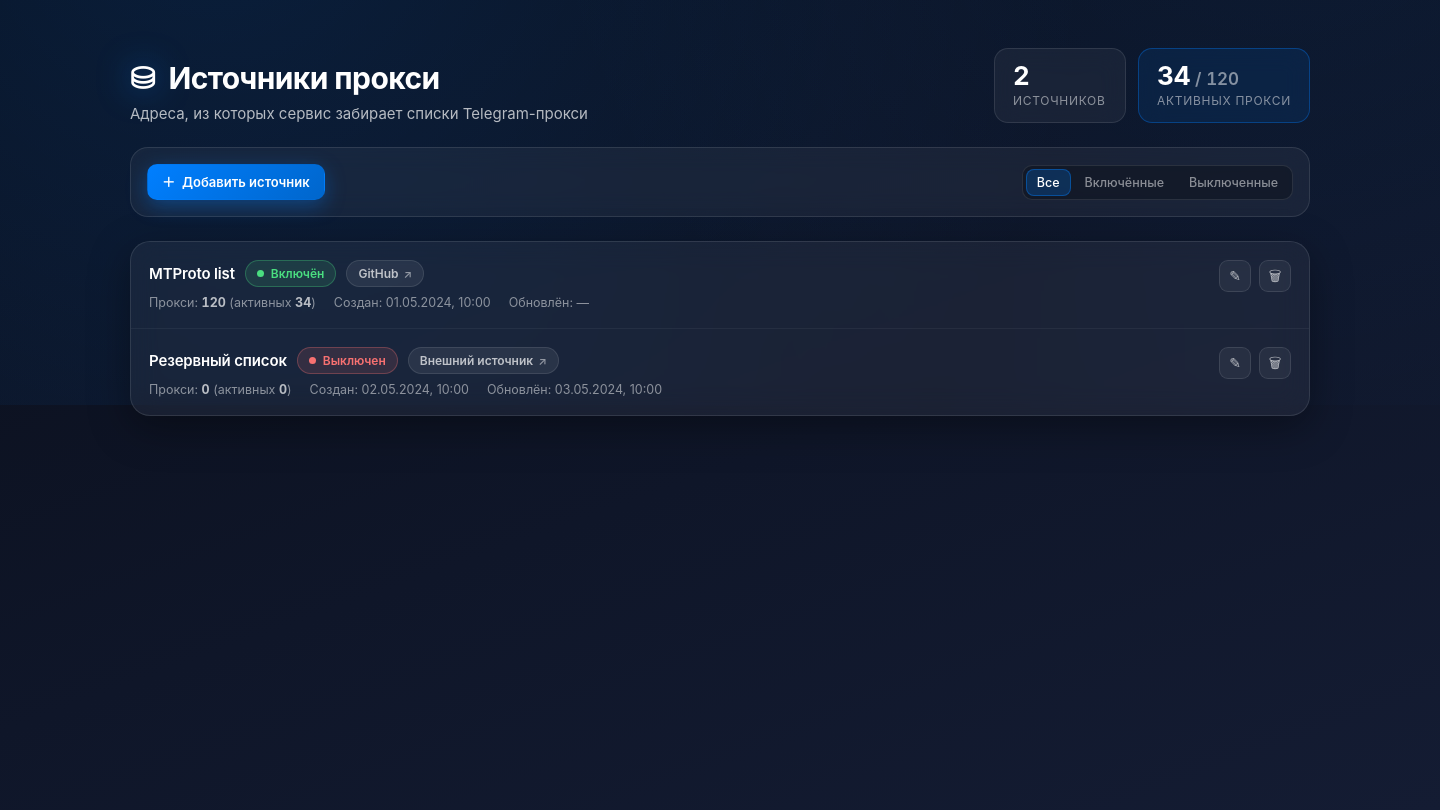
it: добавление источника › шлёт POST и перезагружает список
Expected: the text "MTProto list" is shown, top-left (149, 264), bottom-right (235, 283)
Click the button titled "Добавить источник" at (236, 182), box top-left (147, 164), bottom-right (325, 200)
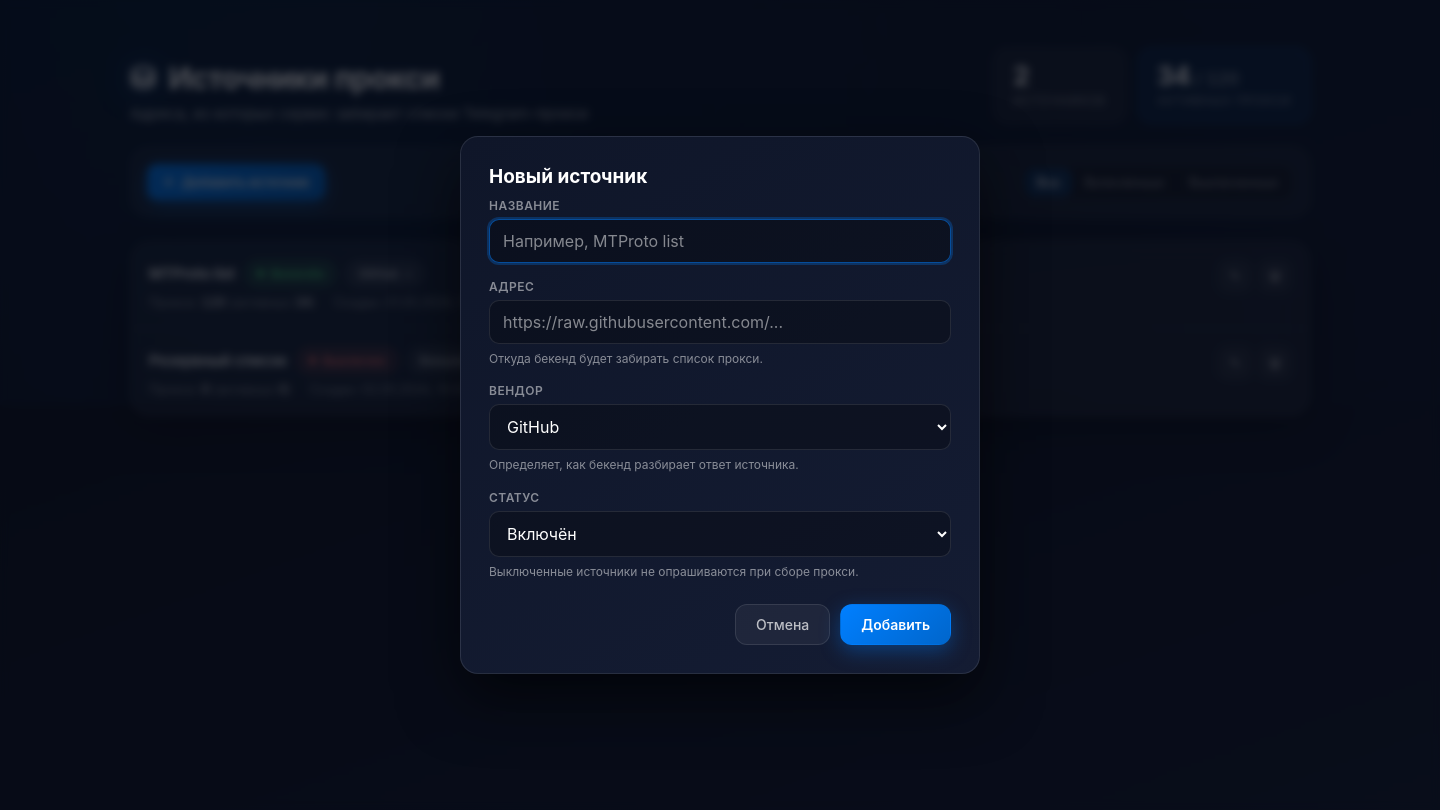
Type "Новый источник" into the field labelled "Название" at (720, 241), box top-left (489, 219), bottom-right (951, 263)
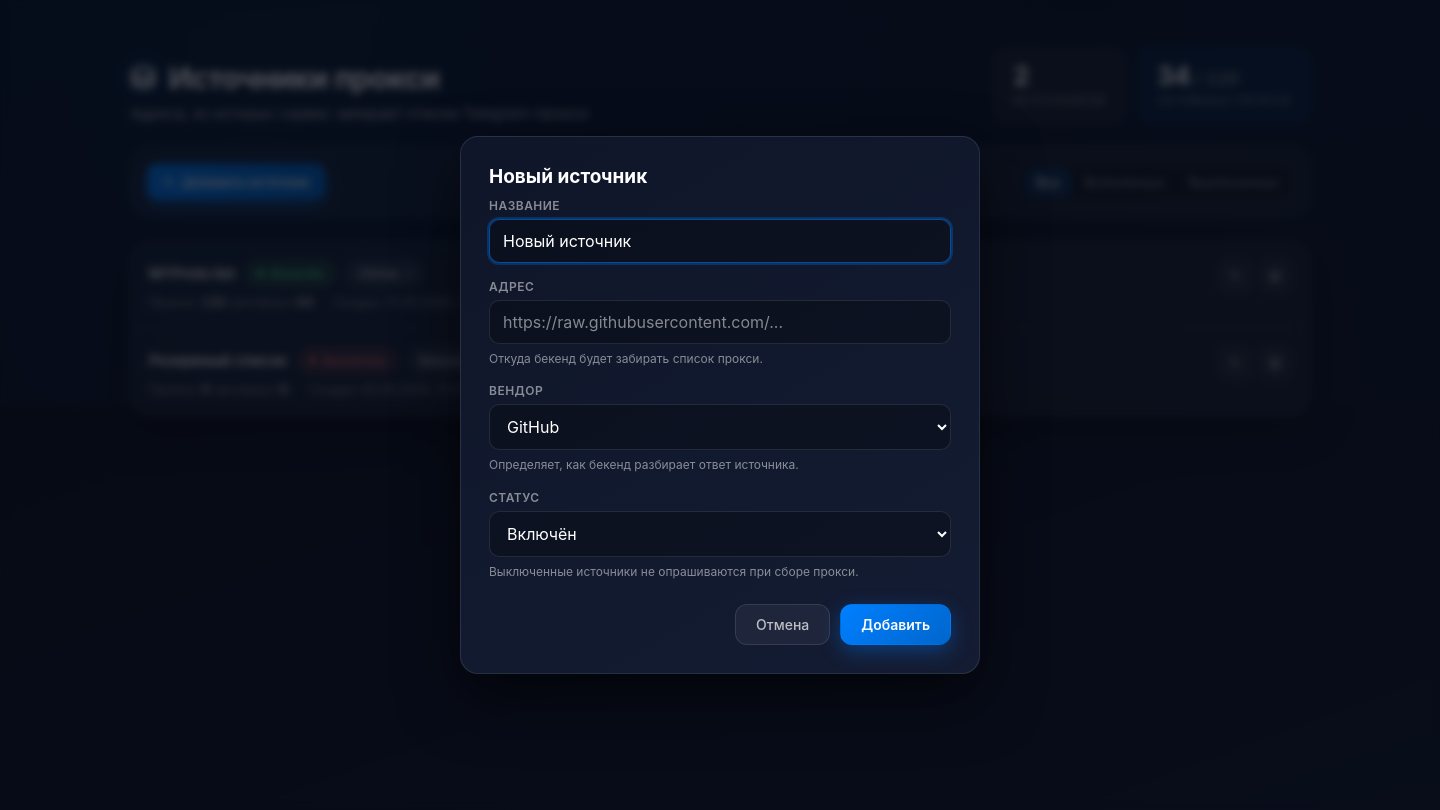
Type "https://example.com/new.txt" into the field labelled "Адрес" at (720, 322), box top-left (489, 300), bottom-right (951, 344)
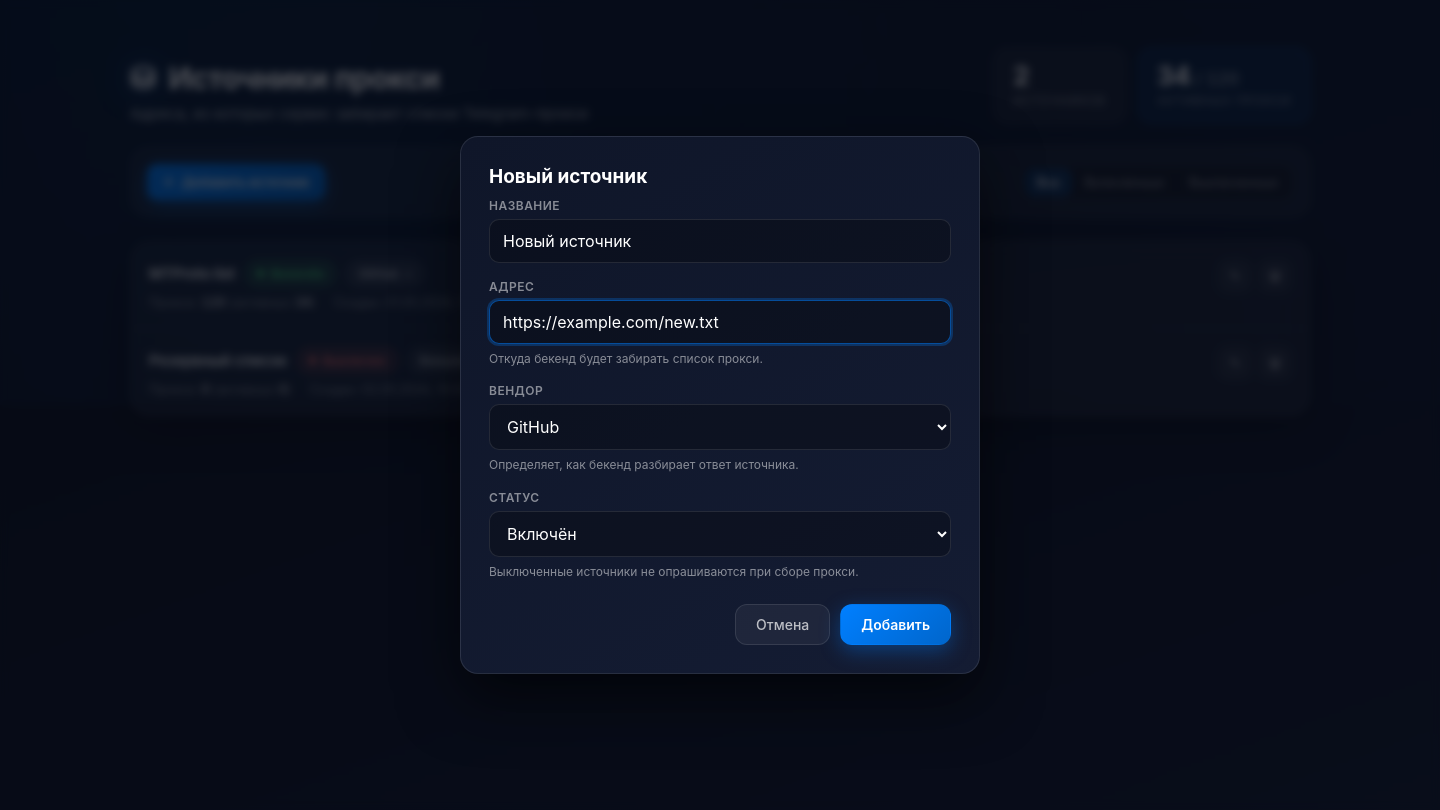
Click the button "Добавить" at (896, 625), box top-left (840, 604), bottom-right (951, 645)
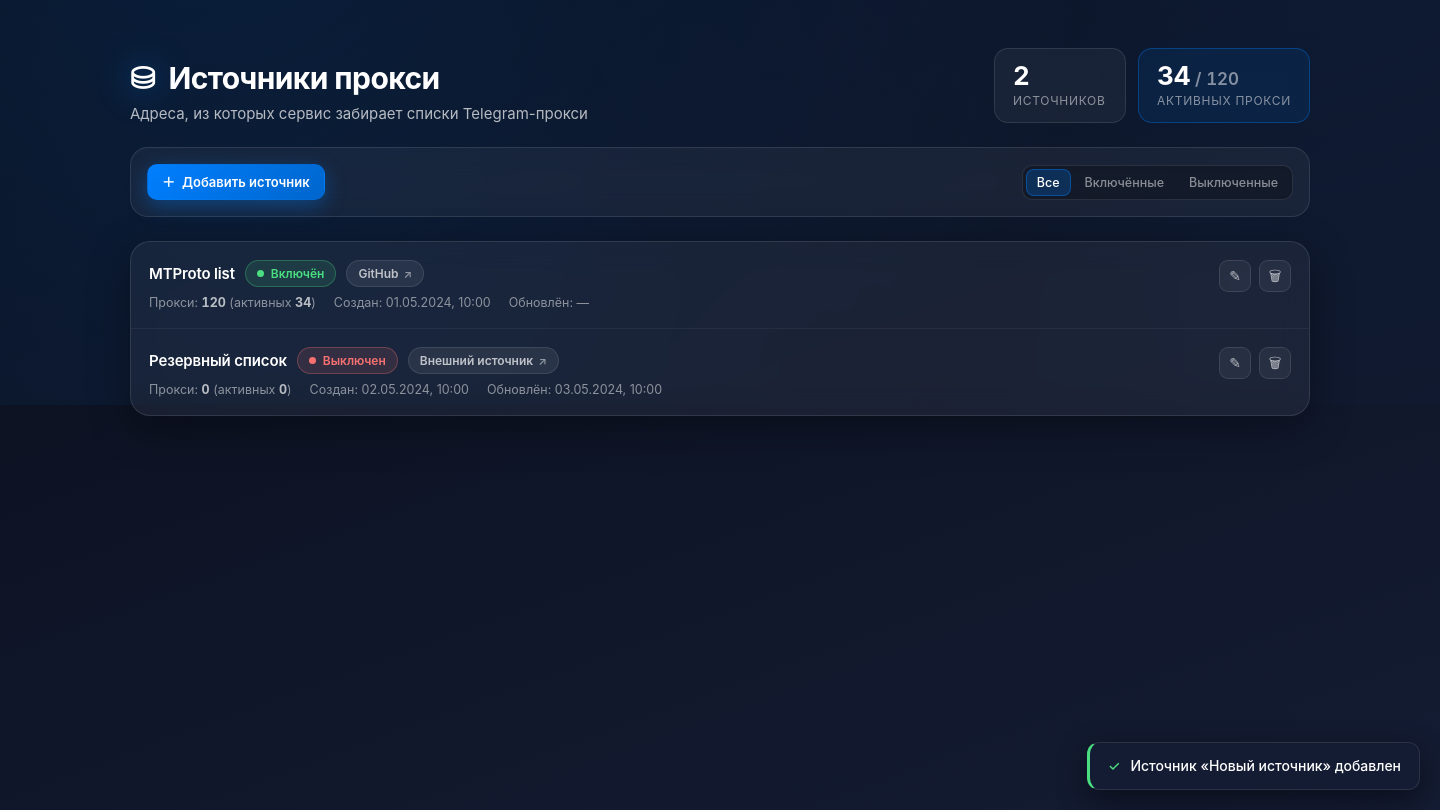
Now the text "Источник «Новый источник» добавлен" is shown, box top-left (1130, 756), bottom-right (1401, 776)
